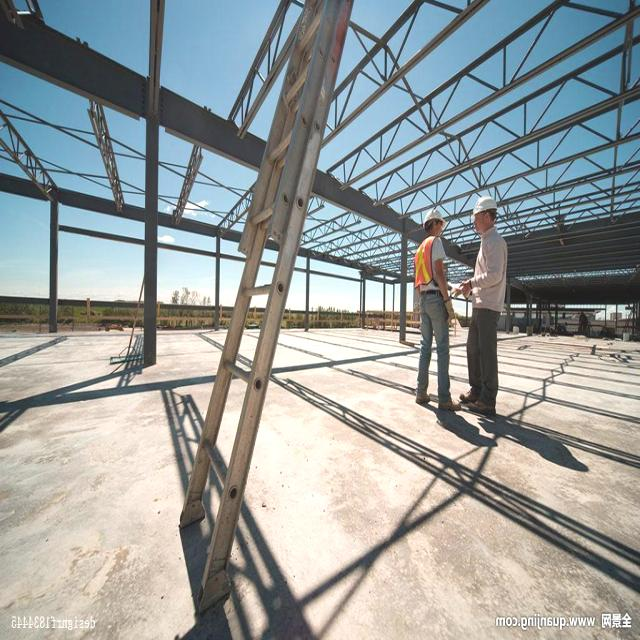face_nomask: (471, 215, 491, 238)
hand_glove: (444, 297, 457, 325)
hand_noglove: (459, 278, 470, 304)
head_helmet: (473, 195, 500, 214), (422, 208, 448, 225)
person: (462, 196, 507, 411), (413, 206, 453, 416)
shoes: (467, 393, 499, 419), (412, 378, 433, 408), (436, 388, 456, 412)
vest: (412, 233, 442, 294)
